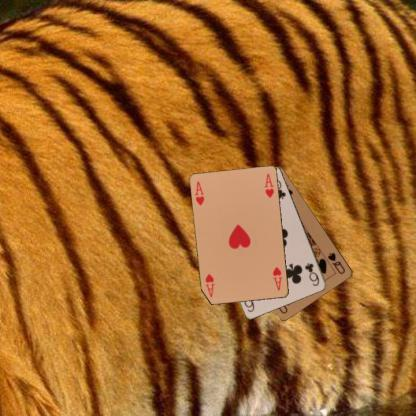6c: (302, 261, 321, 287)
Ah: (192, 178, 206, 207), (270, 264, 284, 292)
Qs: (325, 250, 347, 276)
